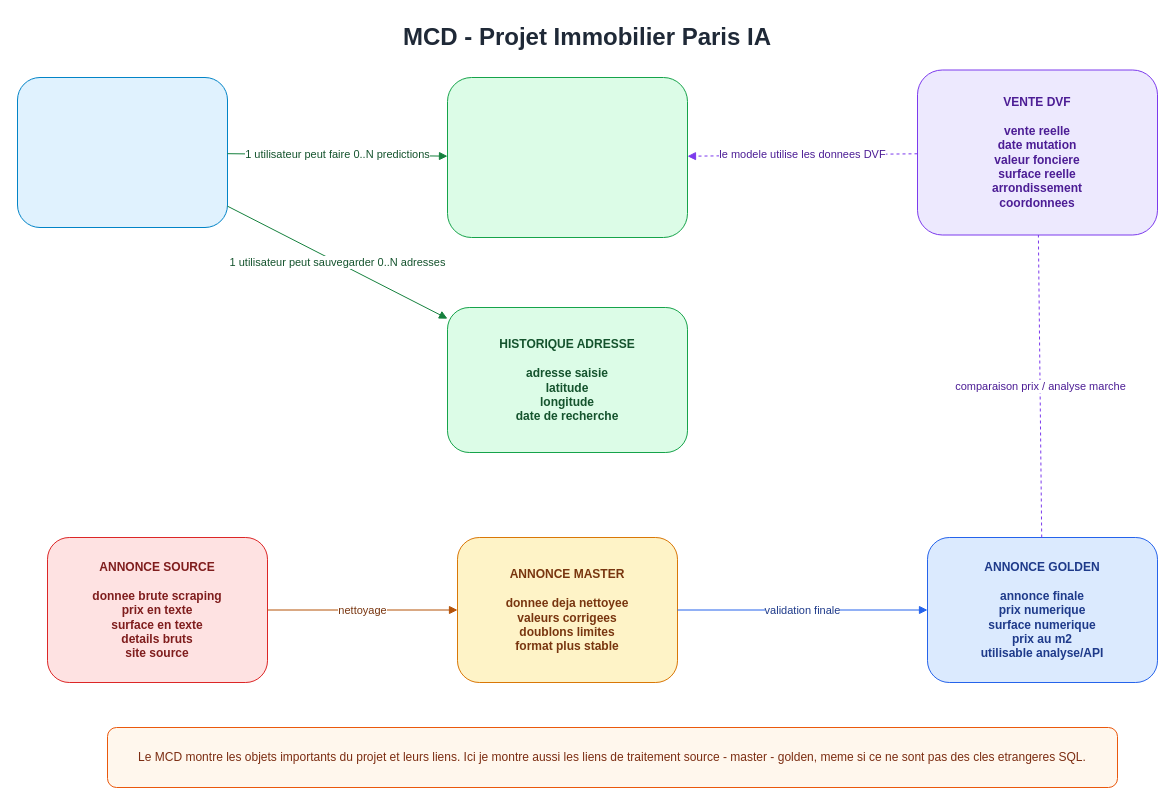
This 1175x805 diagram has some shape labels left out. Here are the shapes that lost their labels. From the top down, the centre of each, then its label:
At (x=122, y=152): "UTILISATEUR id email prenom / nom role compte actif".
At (x=567, y=157): "PREDICTION surface nombre de pieces arrondissement prix predit date".
